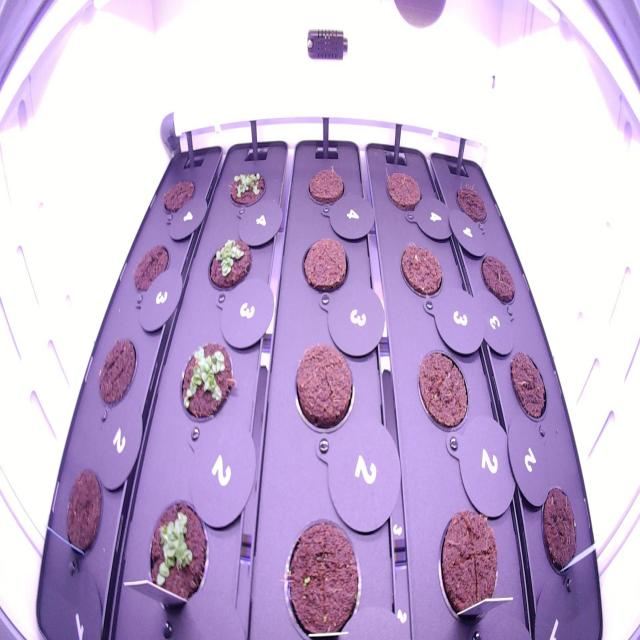germination: (143, 497, 209, 609), (176, 338, 236, 421), (205, 231, 253, 297), (225, 166, 268, 210)
pod: (275, 505, 368, 639), (436, 498, 504, 631), (288, 341, 358, 434), (538, 479, 584, 598), (60, 463, 106, 578), (414, 341, 471, 433), (506, 342, 552, 428), (95, 331, 139, 418), (298, 228, 351, 296), (395, 236, 445, 300), (130, 235, 171, 308), (478, 248, 519, 313), (303, 162, 346, 211), (161, 170, 196, 228), (384, 166, 424, 216), (453, 179, 489, 228)
